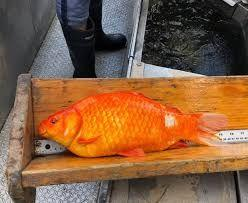Gold Fish: (34, 89, 230, 157)
